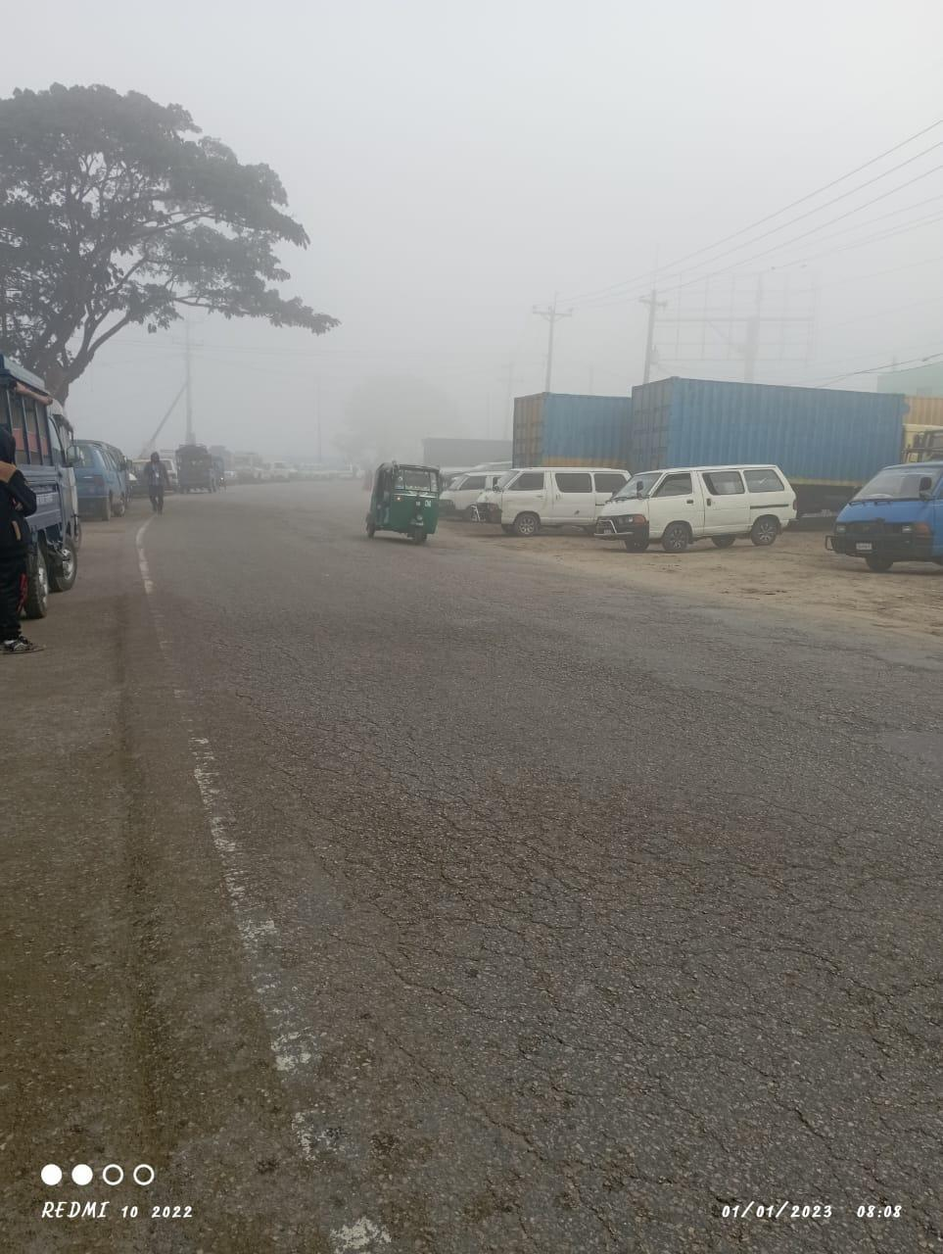Car: (589, 462, 804, 545), (827, 448, 943, 581), (474, 456, 636, 534)
Truck: (631, 369, 942, 489)
